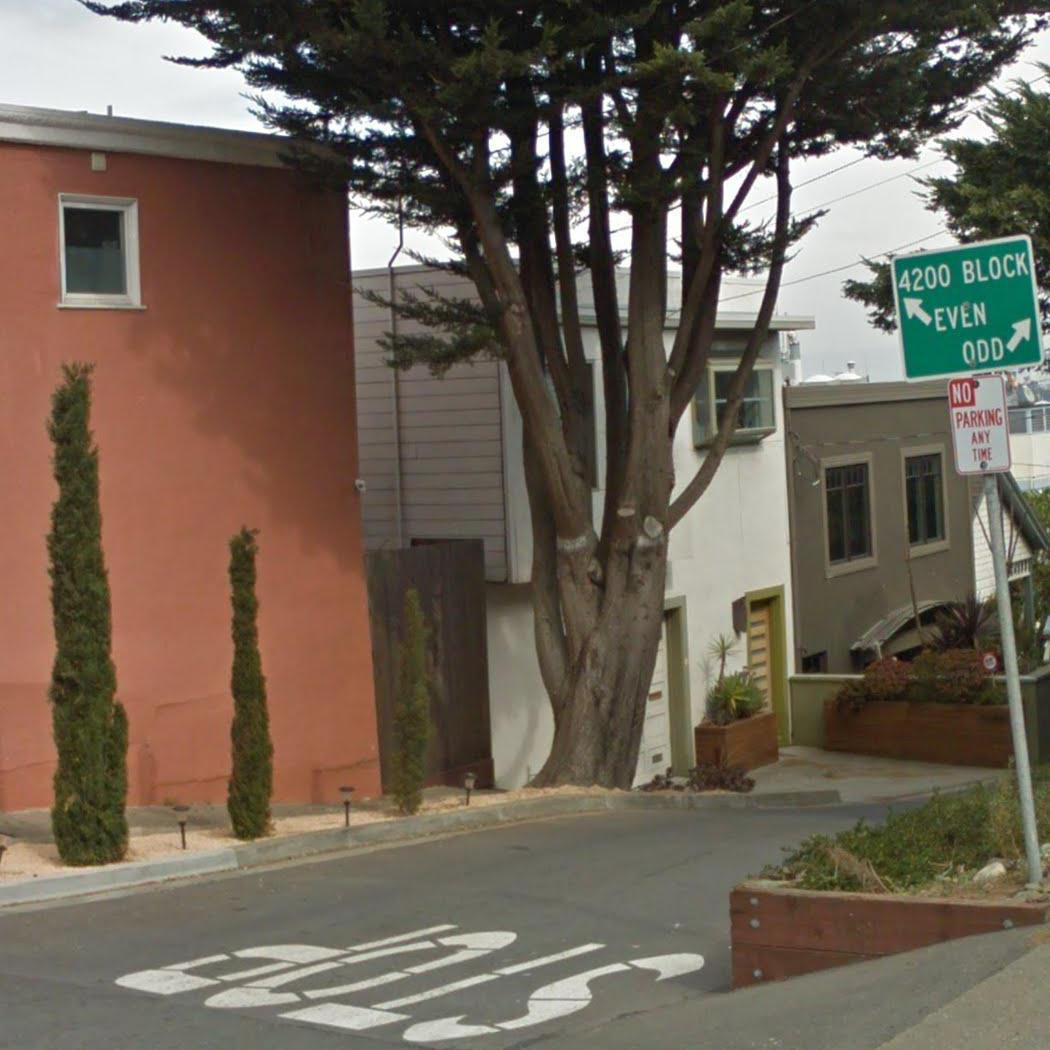No Parking Anytime: (945, 370, 1015, 477)
